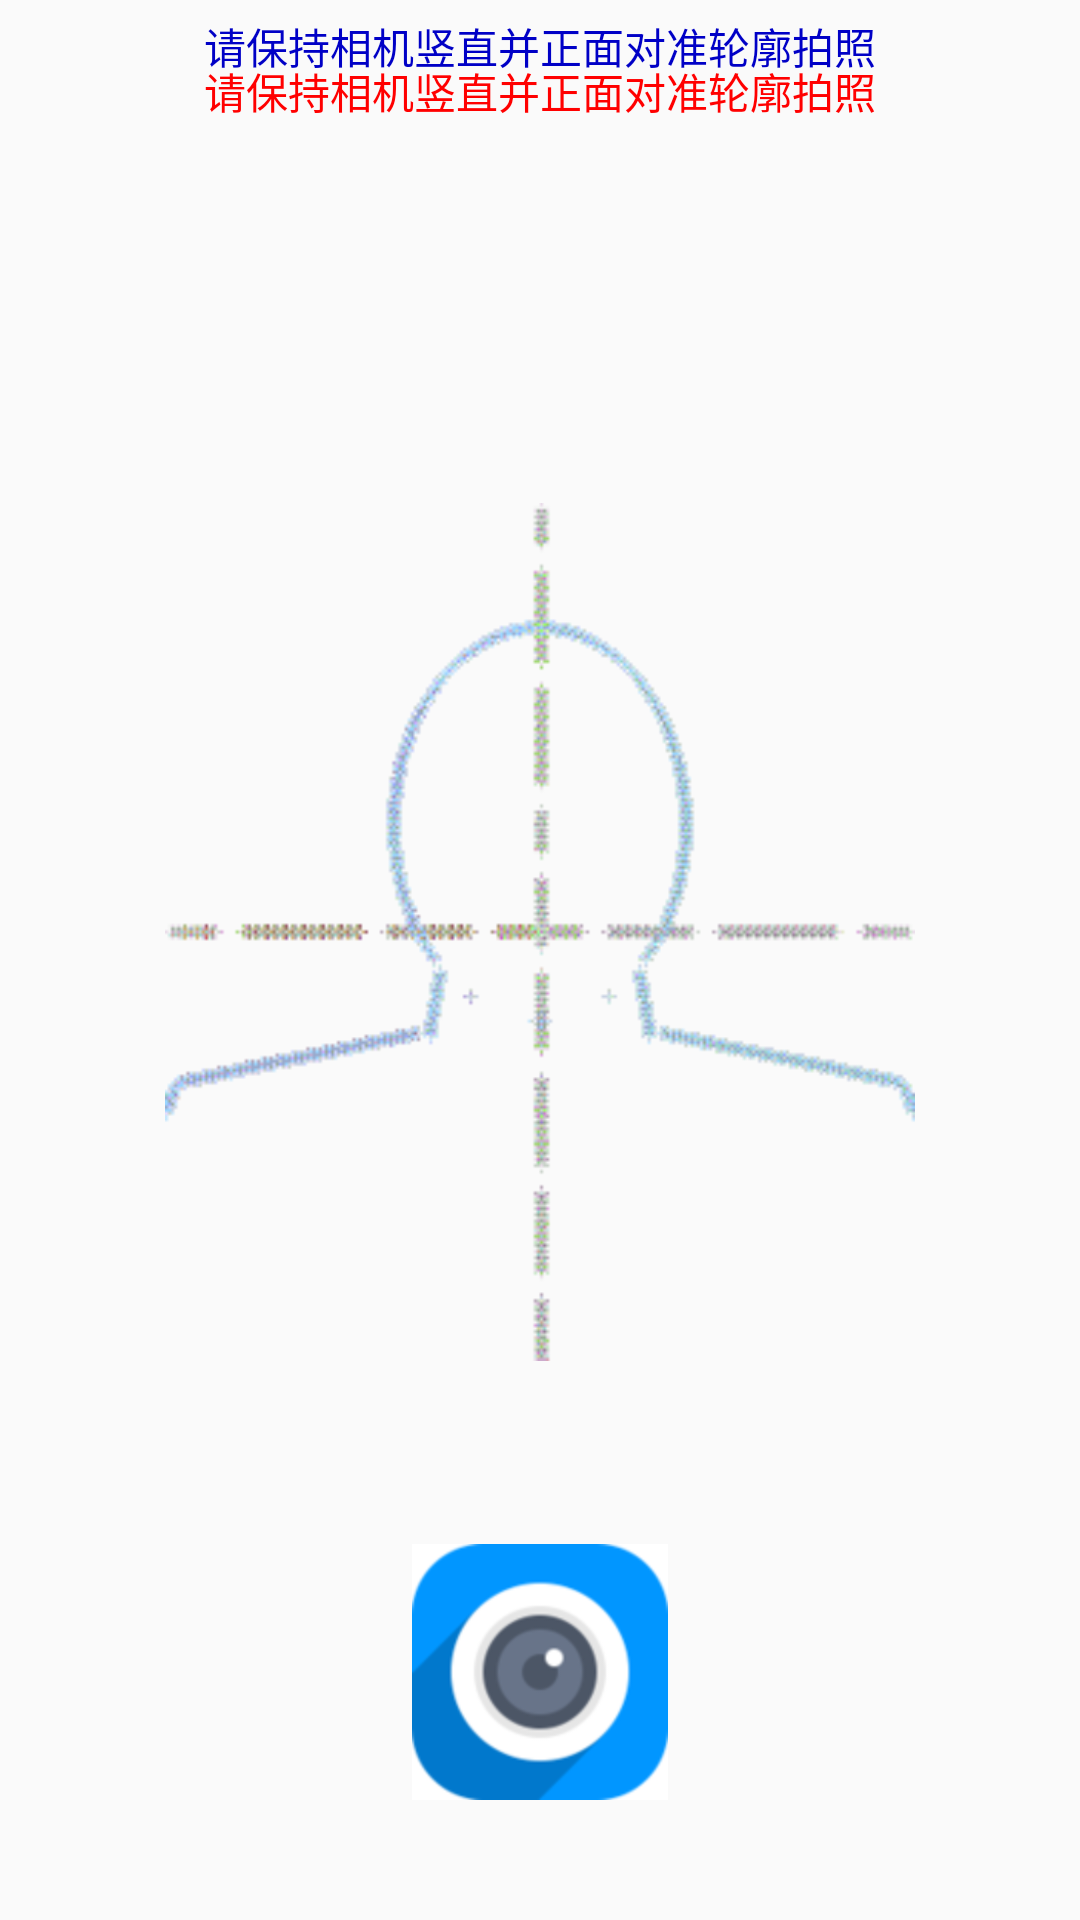

Icons on this 1080 × 1920 Android screen, each with its box as (x1, y1, x2, y2):
camera: (412, 1544, 668, 1800)
